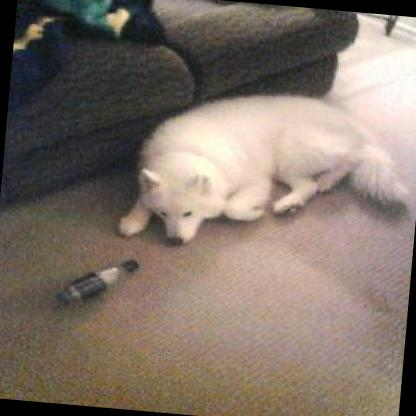Samoyed: (109, 75, 416, 268)
